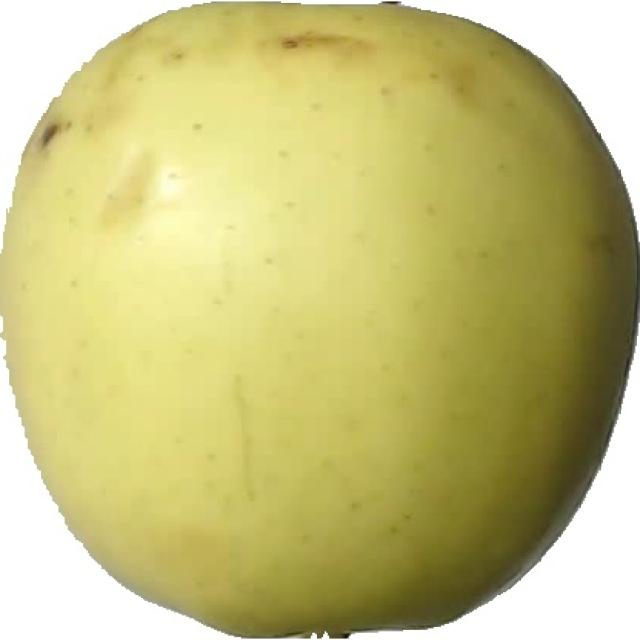Golden Elma: (0, 11, 640, 636)
